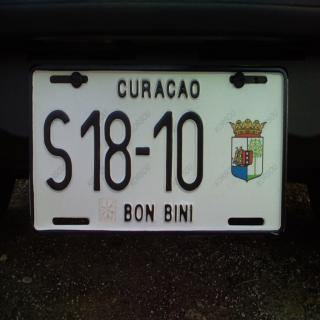license: (28, 59, 291, 235)
